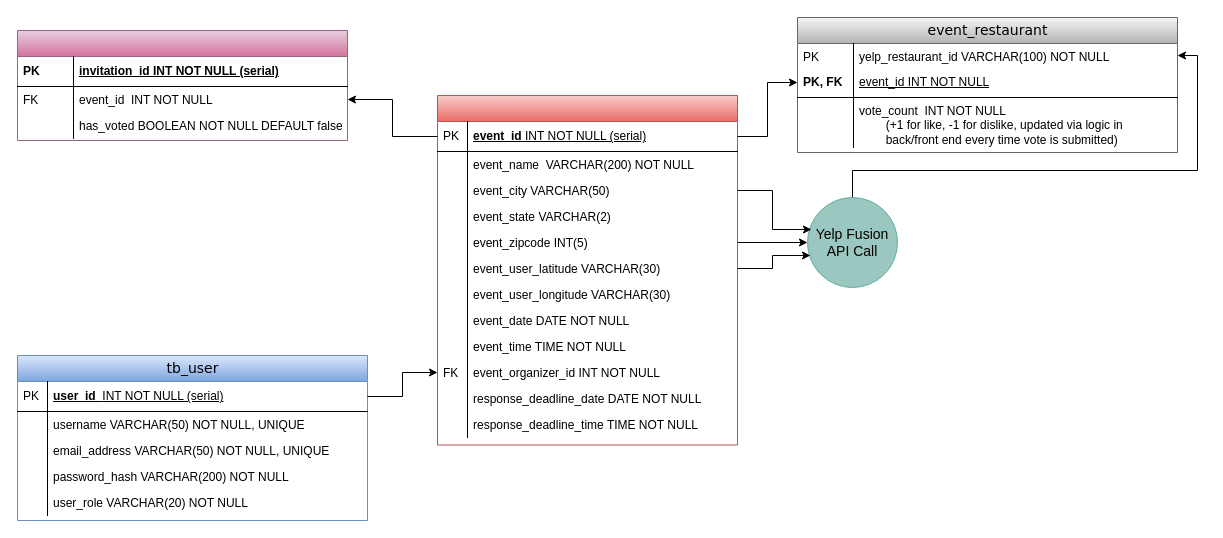
Some shapes in this 1223 by 538 pixel diagram are drawn without their labels. The shapes that lost their labels are listed below. From the top down, each one's box as (x1, y1, x2, y2) in pixels, then its label:
(16, 30, 348, 140): event_invitation
(436, 94, 738, 445): tb_event
